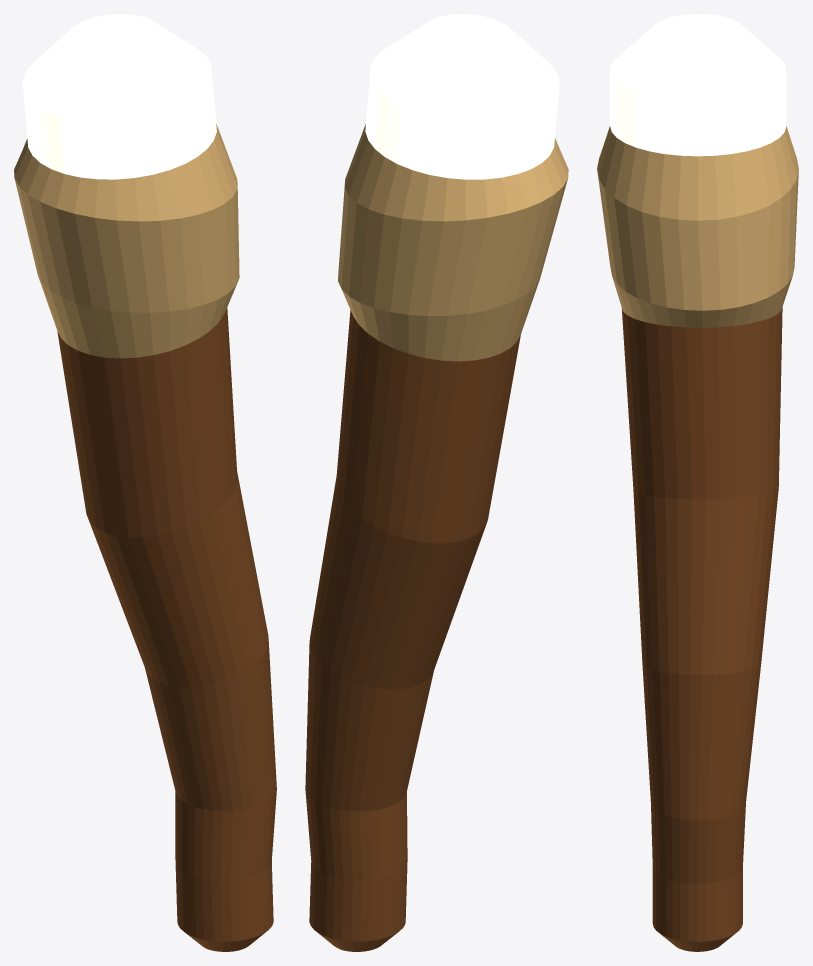
The model's file is torch.fbx.
3 views of the same model, side by side, from view 1: azimuth 30°, elevation 25°; view 2: azimuth 150°, elevation 25°; view 3: azimuth 270°, elevation 25° (orthographic). The views are drawn at different scales.
Parts seen in each view (by area): view 1: Cylinder.001; view 2: Cylinder.001; view 3: Cylinder.001.
Boxes of the visible parts, x1,y1,x2,y2 form: Cylinder.001: [14, 14, 276, 951]; Cylinder.001: [305, 14, 568, 951]; Cylinder.001: [597, 14, 798, 951].
Bounding box in the file's own units: 422 × 1555 × 329.
